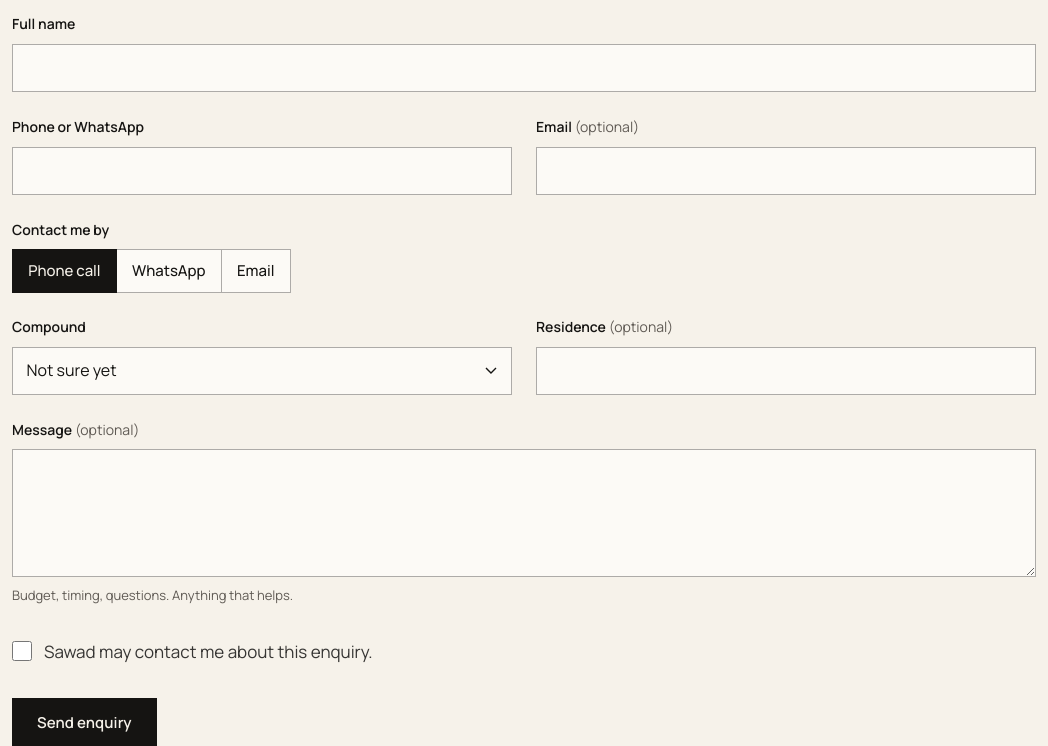
Test case: ContactForm › shows inline errors and a summary instead of submitting an invalid form
(page scrolled)
Click the button "Send enquiry": (84, 722) [12,698,157,745]
(page scrolled)
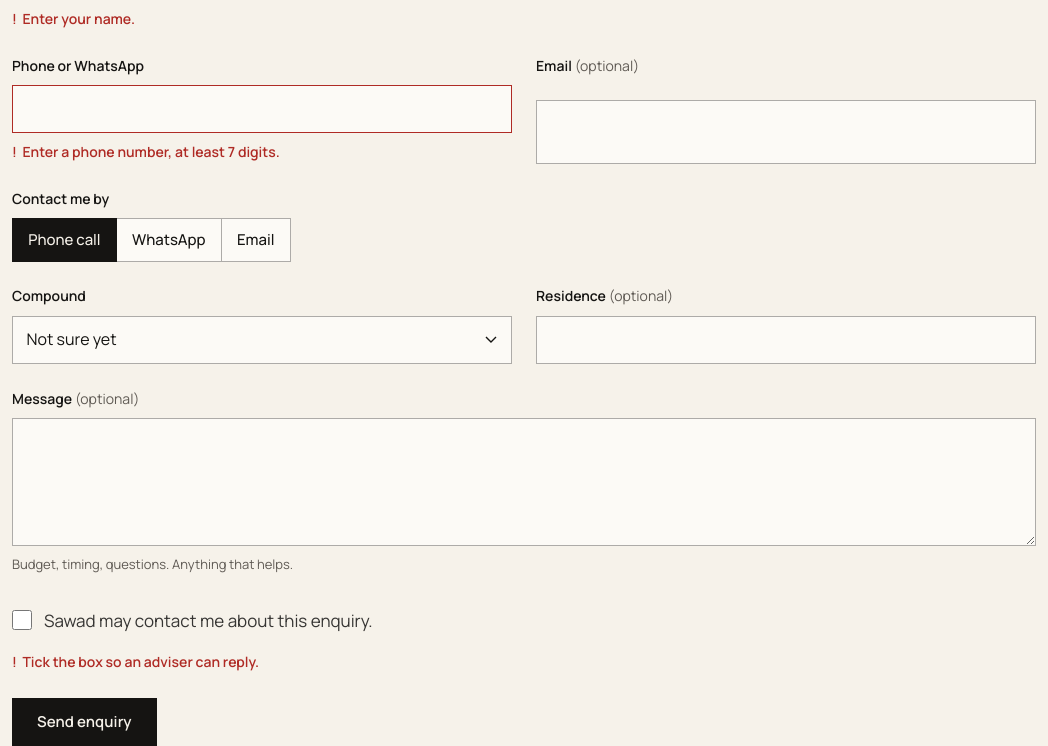
Expected: the text "Tick the box so an adviser can reply." is shown, [22,652,259,671]
